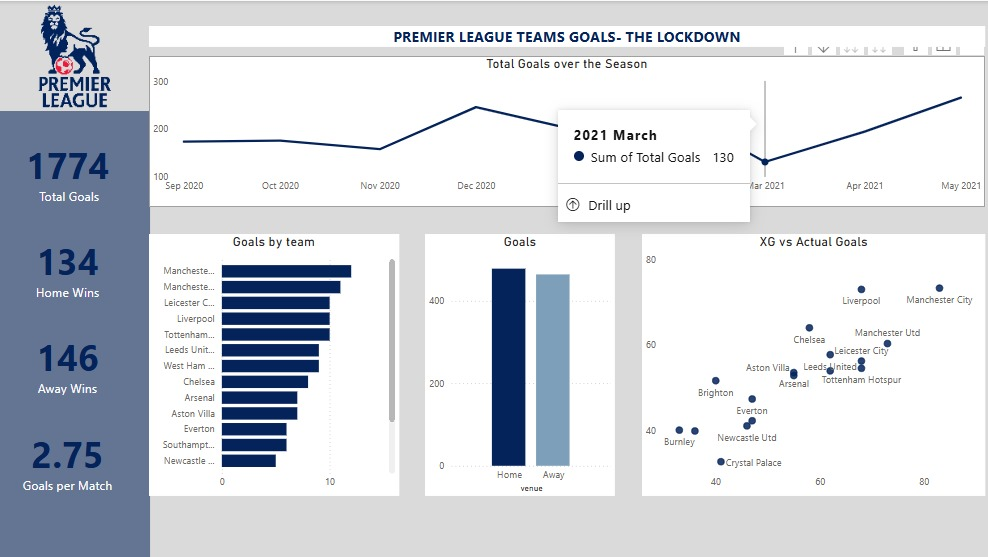

What the dashboard file says about the page in this screenshot:
{"tool":"powerbi","page":{"name":"Dashboard","canvas":[1280,720],"ordinal":1},"visuals":[{"type":"shape","box":[0,142.5,193.6,577.3],"z":0},{"type":"image","box":[0,0,193.6,142.5],"z":1000},{"type":"card","fields":{"Values":["Sum(Clean_Model_Ready.Total Goals)"]},"box":[20.7,175.4,132.7,90.1],"z":2000},{"type":"card","fields":{"Values":["Clean_Model_Ready.Home_Wins"]},"box":[20.7,299.6,132.7,90.1],"z":3000},{"type":"card","fields":{"Values":["Clean_Model_Ready.Avg_Goals_Per_Match"]},"box":[20.7,548,132.7,90.1],"z":4000},{"type":"card","fields":{"Values":["Clean_Model_Ready.Away_Wins"]},"box":[20.7,423.8,132.7,90.1],"z":5000},{"type":"clusteredBarChart","title":"Goals by team","fields":{"Category":["Clean_Model_Ready.team"],"Y":["Clean_Model_Ready.Team_Goal_Rank"]},"box":[192.9,300,322.6,338.1],"z":6000},{"type":"scatterChart","title":"XG vs Actual Goals","fields":{"X":["Sum(Clean_Model_Ready.gf)"],"Category":["Clean_Model_Ready.team"],"Y":["Sum(Clean_Model_Ready.xg)"]},"box":[828.6,300,442.9,338.1],"z":7000},{"type":"columnChart","title":"Goals","fields":{"Category":["Clean_Model_Ready.venue"],"Y":["Clean_Model_Ready.Home Goals","Clean_Model_Ready.Away Goals"]},"box":[548.8,300,245.2,338.1],"z":8000},{"type":"lineChart","title":"Total Goals over the Season","fields":{"Y":["Sum(Clean_Model_Ready.Total Goals)"],"Category":["Clean_Model_Ready.date.Variation.Date Hierarchy.Year","Clean_Model_Ready.date.Variation.Date Hierarchy.Month"]},"box":[192.9,71.4,1078.6,194],"z":9000},{"type":"shape","title":"PREMIER LEAGUE TEAMS GOALS- THE LOCKDOWN","box":[192.9,32.1,1078.6,27.4],"z":10000}]}

Visuals, with their boxes on the page's 1280x720 design canvas (x1, y1, x2, y2). These are canvas units, not pixel positions in the 988x557 screenshot, which may show the page scaled, cropped or inside an application window:
shape: bbox=[0, 142, 194, 720]
image: bbox=[0, 0, 194, 142]
card - Sum(Clean_Model_Ready.Total Goals): bbox=[21, 175, 153, 266]
card - Clean_Model_Ready.Home_Wins: bbox=[21, 300, 153, 390]
card - Clean_Model_Ready.Avg_Goals_Per_Match: bbox=[21, 548, 153, 638]
card - Clean_Model_Ready.Away_Wins: bbox=[21, 424, 153, 514]
"Goals by team" clusteredBarChart: bbox=[193, 300, 516, 638]
"XG vs Actual Goals" scatterChart: bbox=[829, 300, 1272, 638]
"Goals" columnChart: bbox=[549, 300, 794, 638]
"Total Goals over the Season" lineChart: bbox=[193, 71, 1272, 265]
"PREMIER LEAGUE TEAMS GOALS- THE LOCKDOWN" shape: bbox=[193, 32, 1272, 60]
